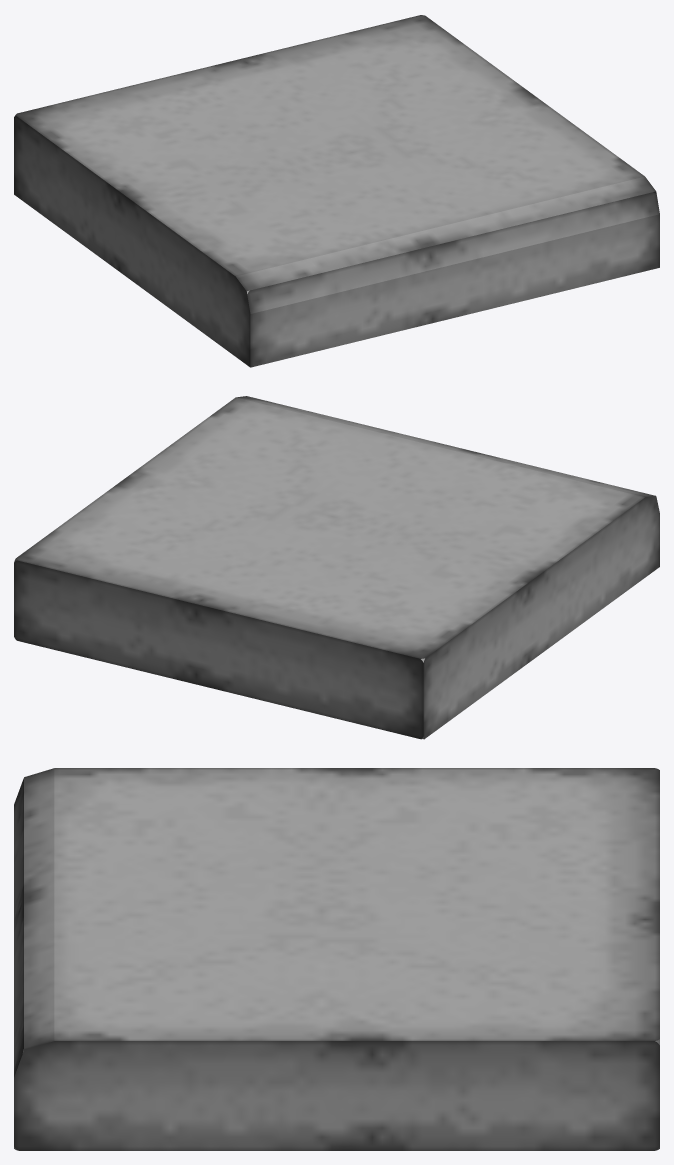
Rendered from housecurb.fbx.
3 views of the same model, one above another, from view 1: azimuth 30°, elevation 25°; view 2: azimuth 150°, elevation 25°; view 3: azimuth 270°, elevation 25° (orthographic). The views are drawn at different scales.
Parts seen in each view (by area): view 1: plane; view 2: plane; view 3: plane.
Part boxes in pixels (x1,y1,x2,y2): plane: [14, 15, 659, 367]; plane: [14, 396, 659, 739]; plane: [14, 768, 659, 1150].
Size of the model in its own units: 100 by 18.75 by 100.
1 material, 1 textured.
